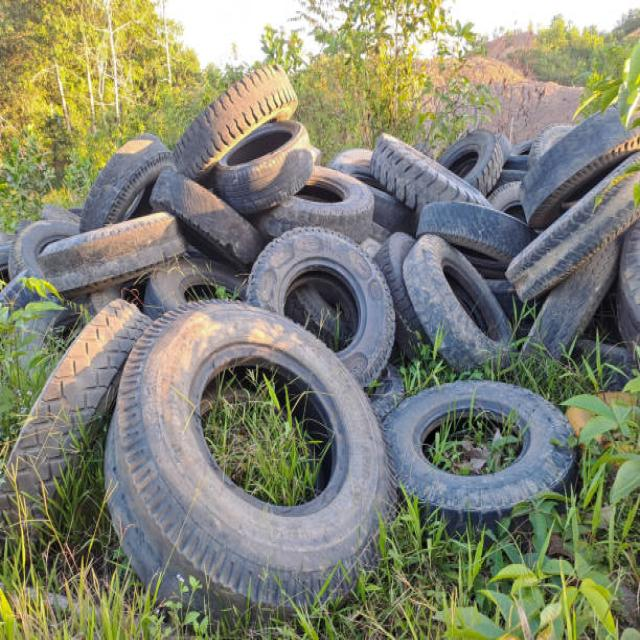tire: (102, 296, 398, 629), (0, 296, 153, 561), (381, 378, 577, 544), (244, 225, 395, 390), (402, 231, 518, 373), (519, 101, 639, 229), (172, 61, 298, 181), (209, 118, 314, 215), (368, 131, 492, 213), (78, 133, 176, 232), (253, 163, 374, 242), (0, 267, 65, 377), (142, 250, 246, 318), (436, 126, 511, 195), (8, 217, 82, 278)
